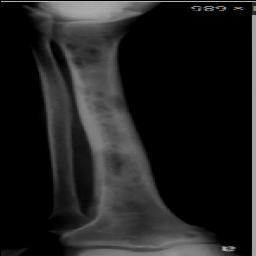cancer: (62, 30, 164, 214)
